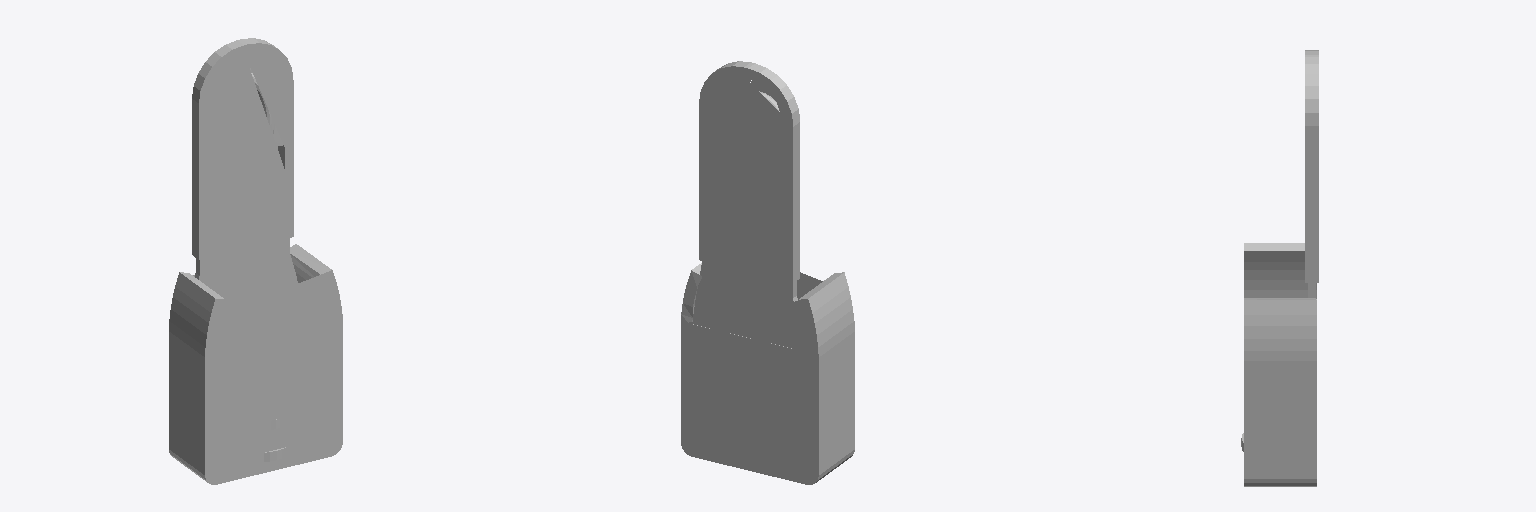
File: SetA_WallOrnament_Style_02.obj
The picture shows the model from 3 angles: view 1: azimuth 30°, elevation 25°; view 2: azimuth 150°, elevation 25°; view 3: azimuth 270°, elevation 25°; orthographic projection.
Visible parts, largest first — view 1: SetA_WallOrnament_Style_02; view 2: SetA_WallOrnament_Style_02; view 3: SetA_WallOrnament_Style_02.
Boxes of the visible parts, x1=… form: SetA_WallOrnament_Style_02: x1=169, y1=38, x2=342, y2=484; SetA_WallOrnament_Style_02: x1=681, y1=61, x2=854, y2=484; SetA_WallOrnament_Style_02: x1=1241, y1=50, x2=1318, y2=486.
Bounding box in the file's own units: 0.1258 × 0.3513 × 0.0609.